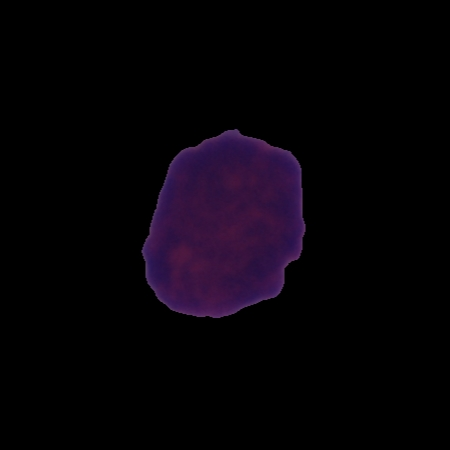ALL: (137, 124, 309, 321)
